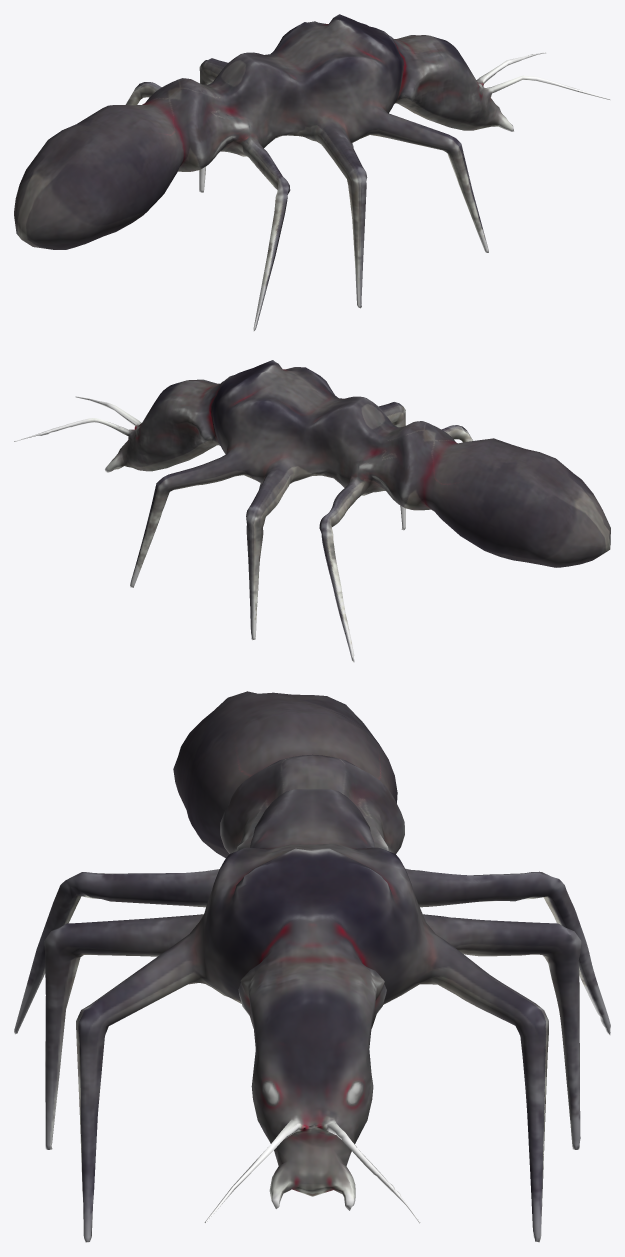
3 renders of one model, top to bottom at view 1: azimuth 30°, elevation 25°; view 2: azimuth 150°, elevation 25°; view 3: azimuth 270°, elevation 25°, orthographic. The views are drawn at different scales.
Parts seen in each view (by area): view 1: BODY; view 2: BODY; view 3: BODY.
Boxes of the visible parts, bbox=[...] form: BODY: bbox=[14, 14, 610, 331]; BODY: bbox=[14, 360, 610, 662]; BODY: bbox=[14, 691, 610, 1242].
Size of the model in its own units: 13.35 by 4.67 by 7.18.
Materials: 1 (1 with a texture image).
